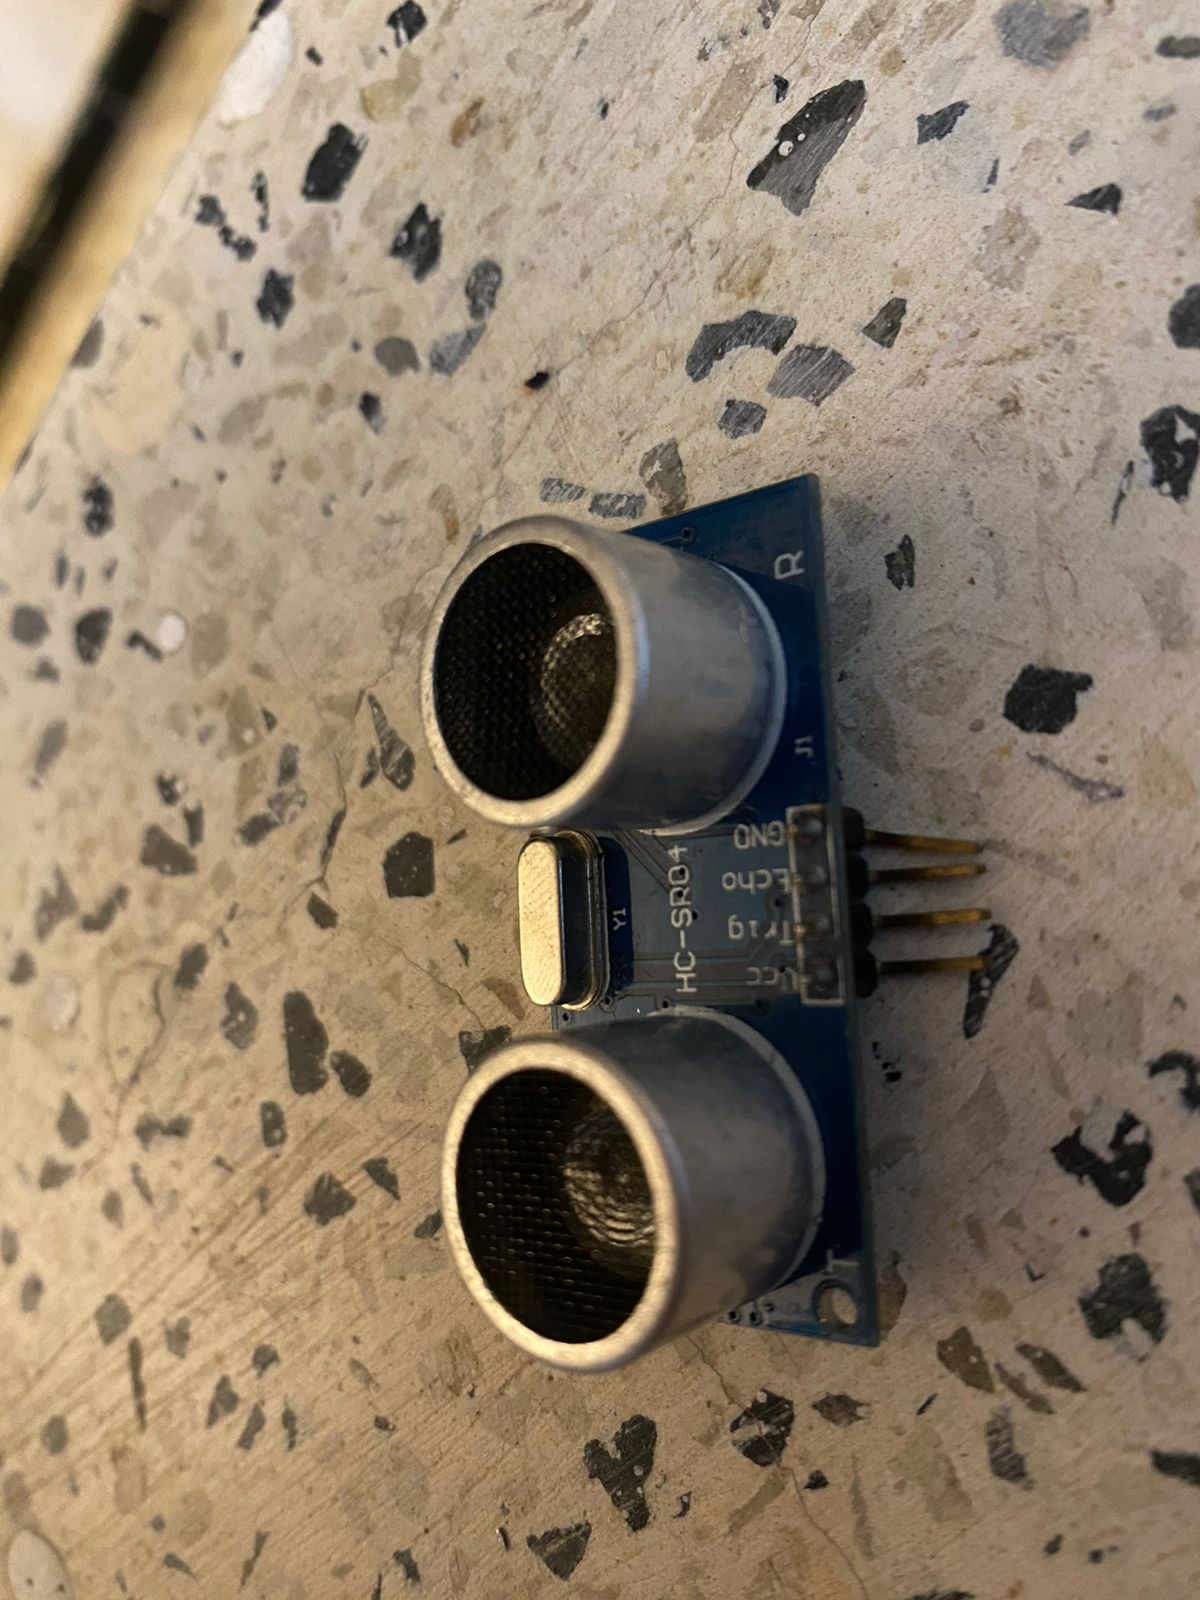capteur-ultrasonique: (410, 472, 995, 1366)
